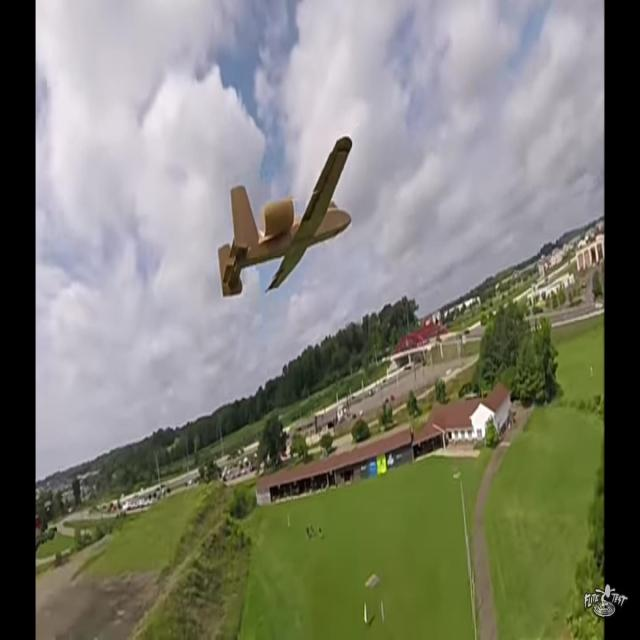iha: (220, 136, 353, 301)
